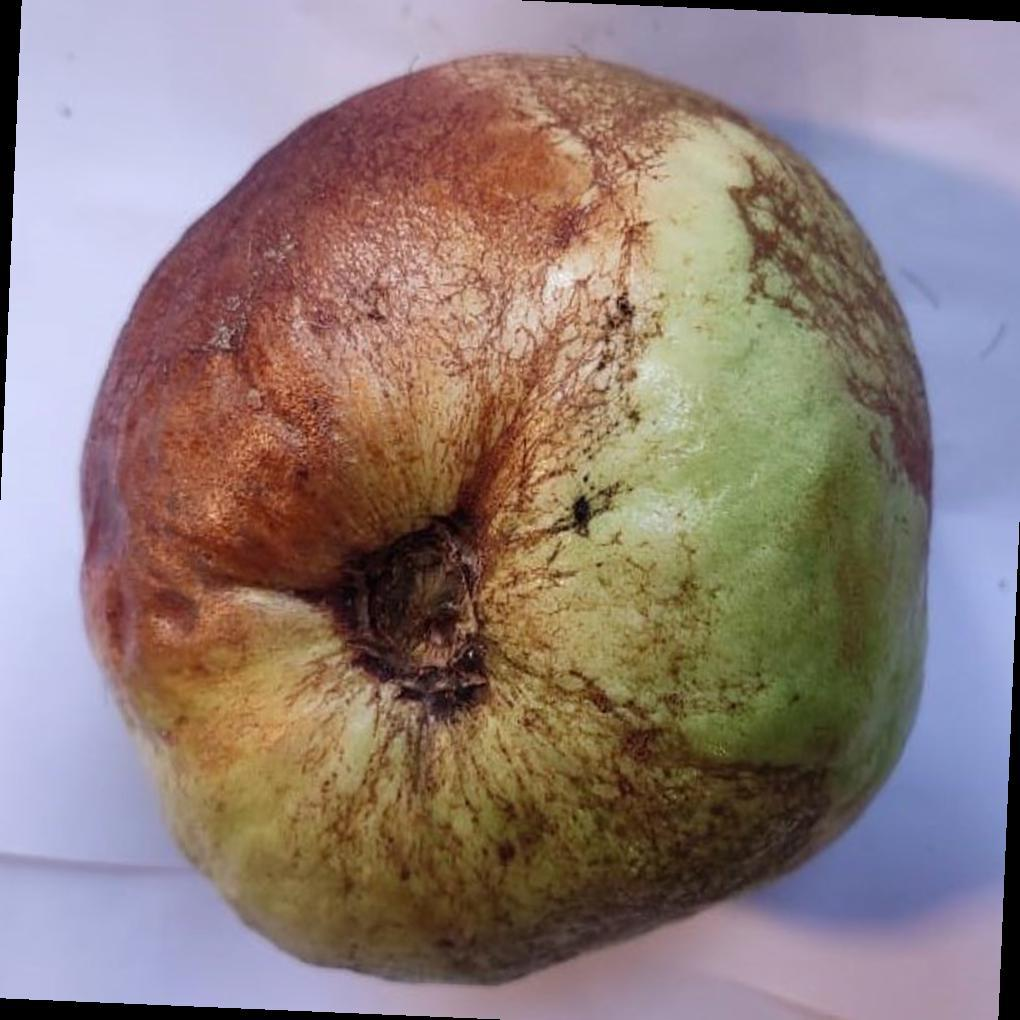FreshOrange: (77, 53, 937, 988)
